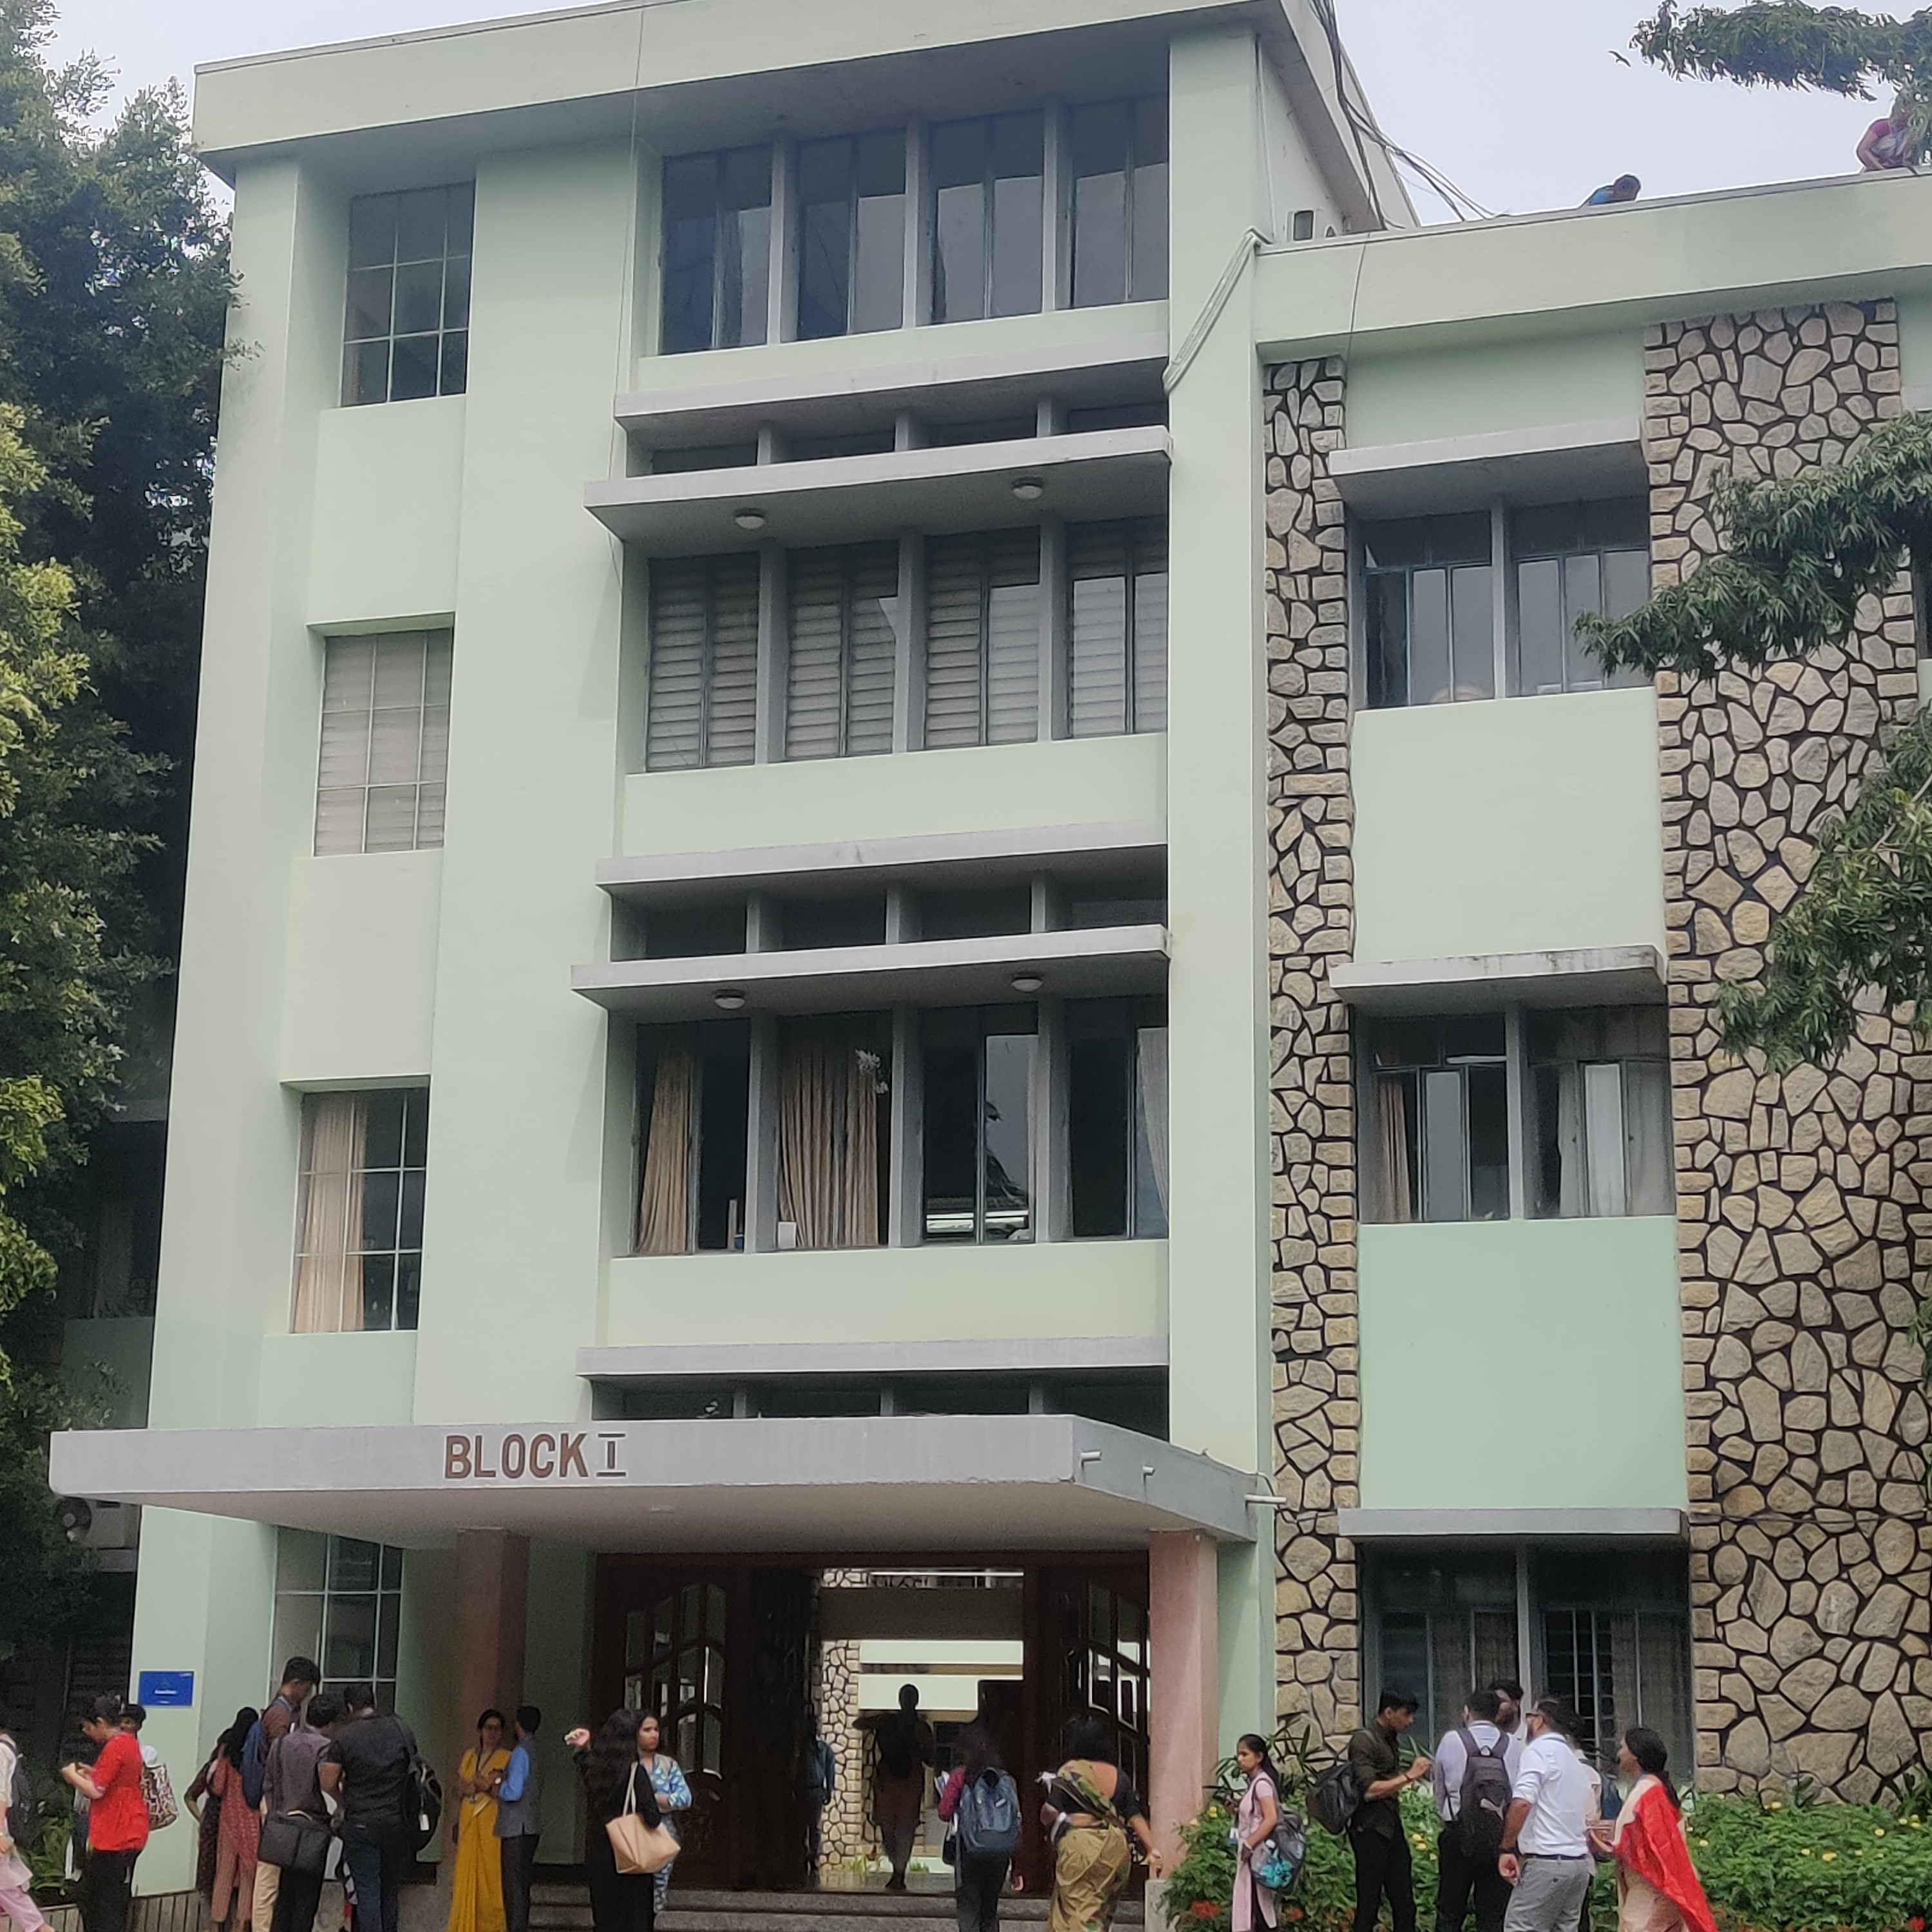Block 1: (186, 30, 1867, 1621)
